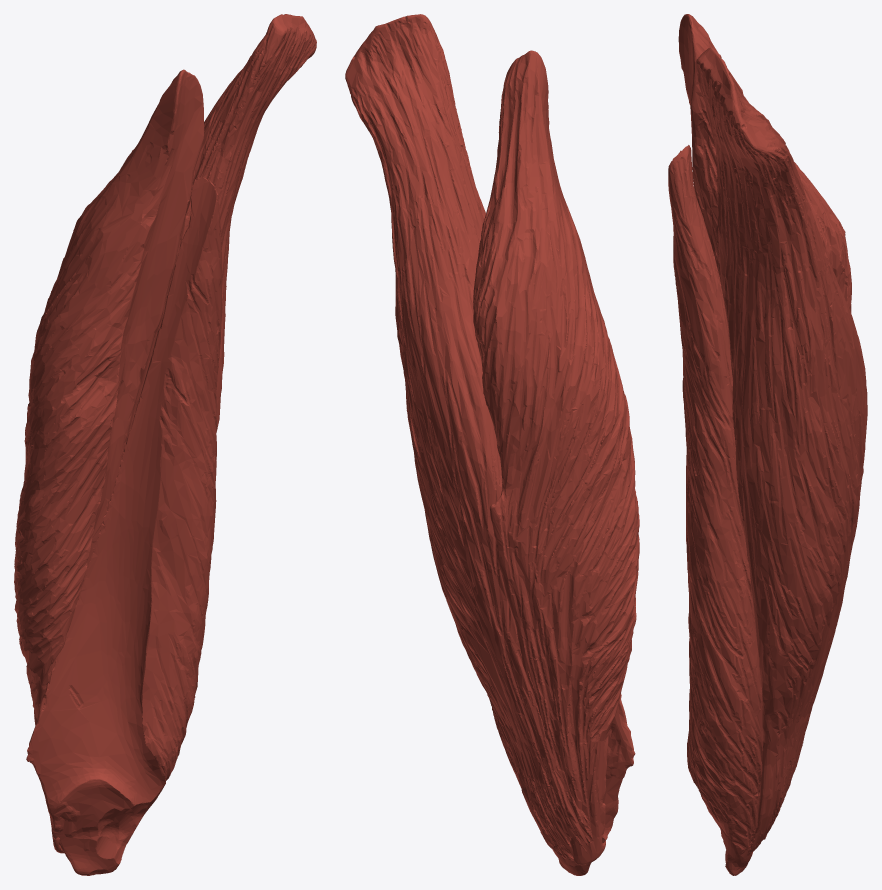
The model's file is triceps_brachii_right.glb.
The picture shows the model from 3 angles, left to right: view 1: azimuth 30°, elevation 25°; view 2: azimuth 150°, elevation 25°; view 3: azimuth 270°, elevation 25°; orthographic projection. The views are drawn at different scales.
Bounding box in the file's own units: 0.1011 × 0.2694 × 0.0533.
